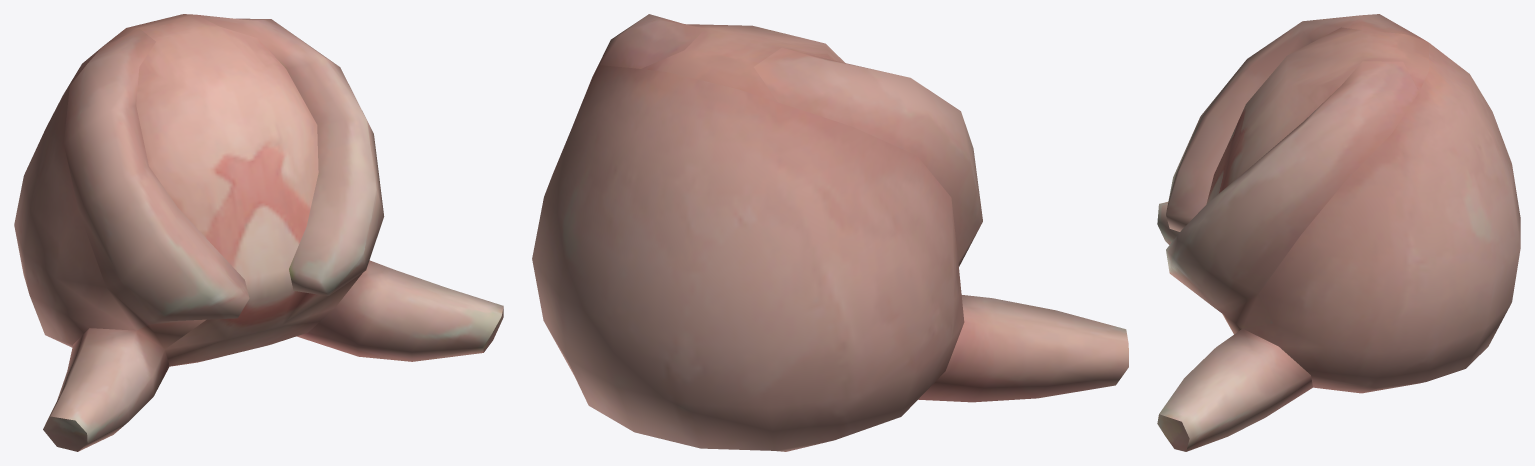
The model's file is Homeworld_Ani_Exterior_Common_Decoration_Prop_WoodAranaraBodyC4_02_Vo.fbx.
3 views of the same model, side by side, from view 1: azimuth 30°, elevation 25°; view 2: azimuth 150°, elevation 25°; view 3: azimuth 270°, elevation 25° (orthographic). The views are drawn at different scales.
Visible parts, largest first — view 1: Homeworld_Ani_Exterior_Common_Decoration_Prop_WoodAranaraBod; view 2: Homeworld_Ani_Exterior_Common_Decoration_Prop_WoodAranaraBod; view 3: Homeworld_Ani_Exterior_Common_Decoration_Prop_WoodAranaraBod.
Boxes of the visible parts, <box> form: Homeworld_Ani_Exterior_Common_Decoration_Prop_WoodAranaraBod: <box>14,14,503,451</box>; Homeworld_Ani_Exterior_Common_Decoration_Prop_WoodAranaraBod: <box>532,14,1128,451</box>; Homeworld_Ani_Exterior_Common_Decoration_Prop_WoodAranaraBod: <box>1157,14,1520,451</box>.
Bounding box in the file's own units: 0.7015 × 0.4495 × 0.4739.
